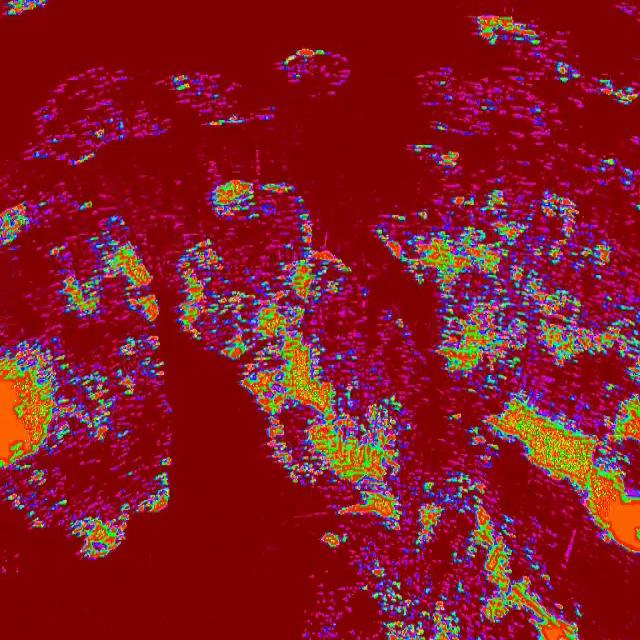fire: (408, 0, 640, 639), (0, 181, 173, 565), (180, 180, 308, 356), (240, 358, 407, 482), (26, 70, 175, 171), (168, 58, 276, 133), (355, 531, 409, 640), (308, 244, 357, 358), (280, 43, 354, 106), (336, 484, 410, 531), (370, 204, 408, 266), (0, 0, 48, 18), (321, 529, 348, 555)
